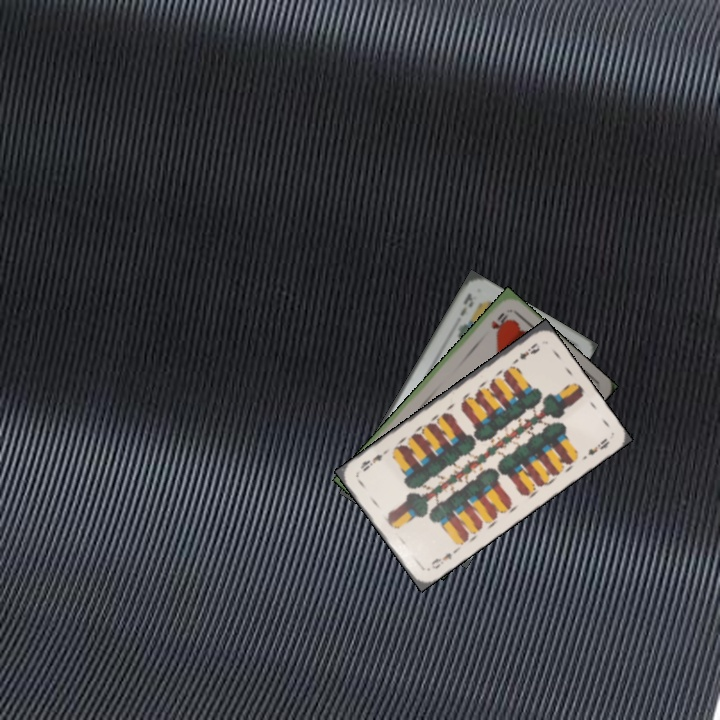E9: (508, 339, 542, 369), (427, 549, 455, 572)
EK: (456, 289, 476, 319)
HO: (487, 308, 511, 332)
